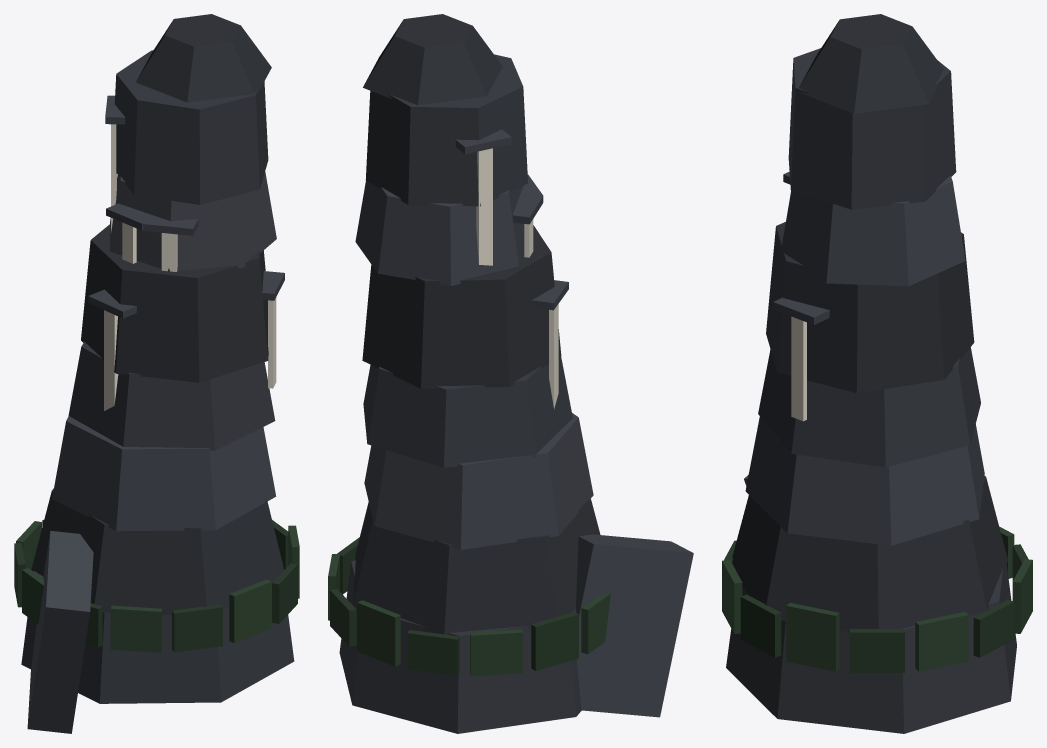
The model's file is lowsong_stack.glb.
3 views of the same model, side by side, from view 1: azimuth 30°, elevation 25°; view 2: azimuth 150°, elevation 25°; view 3: azimuth 270°, elevation 25° (orthographic). The views are drawn at different scales.
Visible parts, largest first — view 1: slate_d57, slate_d50, slate_d42, moss_d52, moss_d60, bone_l5; view 2: slate_d42, slate_d57, slate_d50, moss_d52, moss_d60, bone_l5; view 3: slate_d57, slate_d50, slate_d42, moss_d52, moss_d60, bone_l5.
Boxes of the visible parts, <box> form: slate_d57: <box>31,14,284,615</box>; slate_d50: <box>21,50,294,703</box>; slate_d42: <box>27,95,284,733</box>; moss_d52: <box>16,521,299,652</box>; moss_d60: <box>14,520,297,652</box>; bone_l5: <box>104,124,276,410</box>; slate_d42: <box>355,129,693,717</box>; slate_d57: <box>353,14,600,634</box>; slate_d50: <box>339,54,581,733</box>; moss_d52: <box>328,554,610,676</box>; moss_d60: <box>330,537,578,675</box>; bone_l5: <box>476,148,558,409</box>; slate_d57: <box>732,14,1007,632</box>; slate_d50: <box>726,48,1016,733</box>; slate_d42: <box>744,171,984,545</box>; moss_d52: <box>722,526,1032,671</box>; moss_d60: <box>724,540,1028,672</box>; bone_l5: <box>791,316,806,421</box>.
Bounding box in the file's own units: 2.58 × 5.54 × 2.25.
